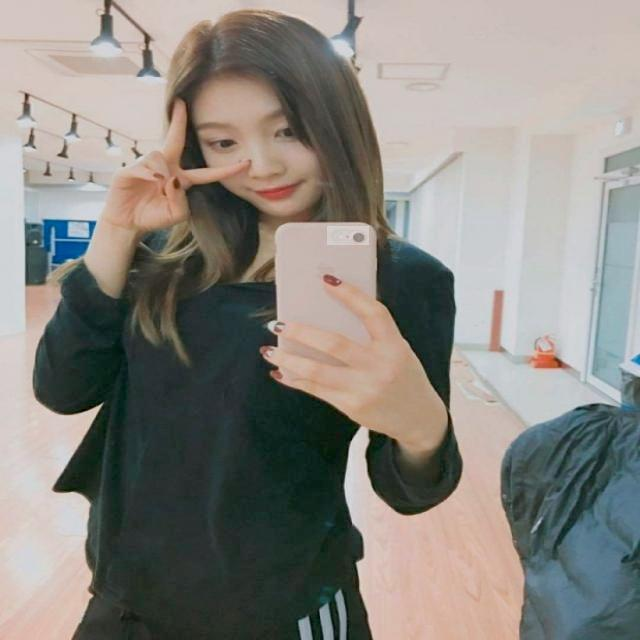lens: (327, 226, 369, 245)
phone: (270, 217, 384, 378)
